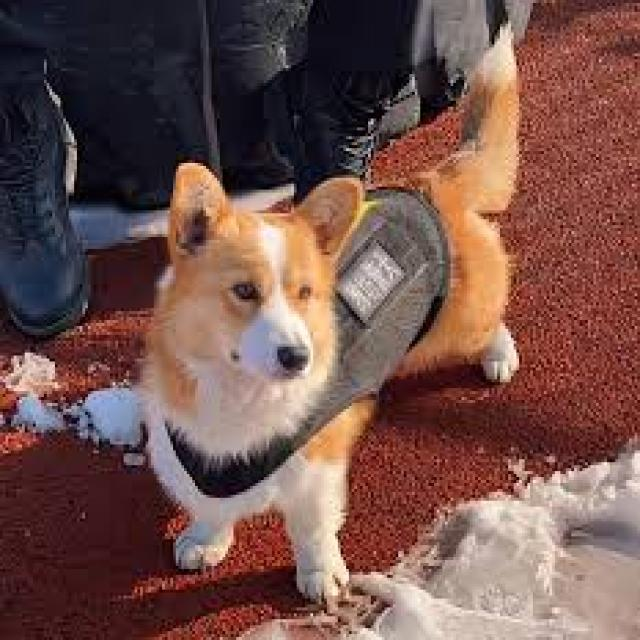CORGI: (110, 23, 554, 606)
